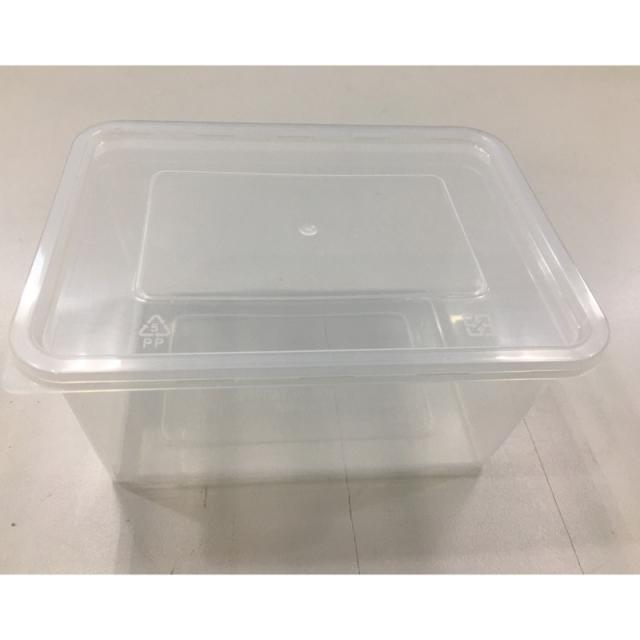plastic: (14, 118, 612, 478)
